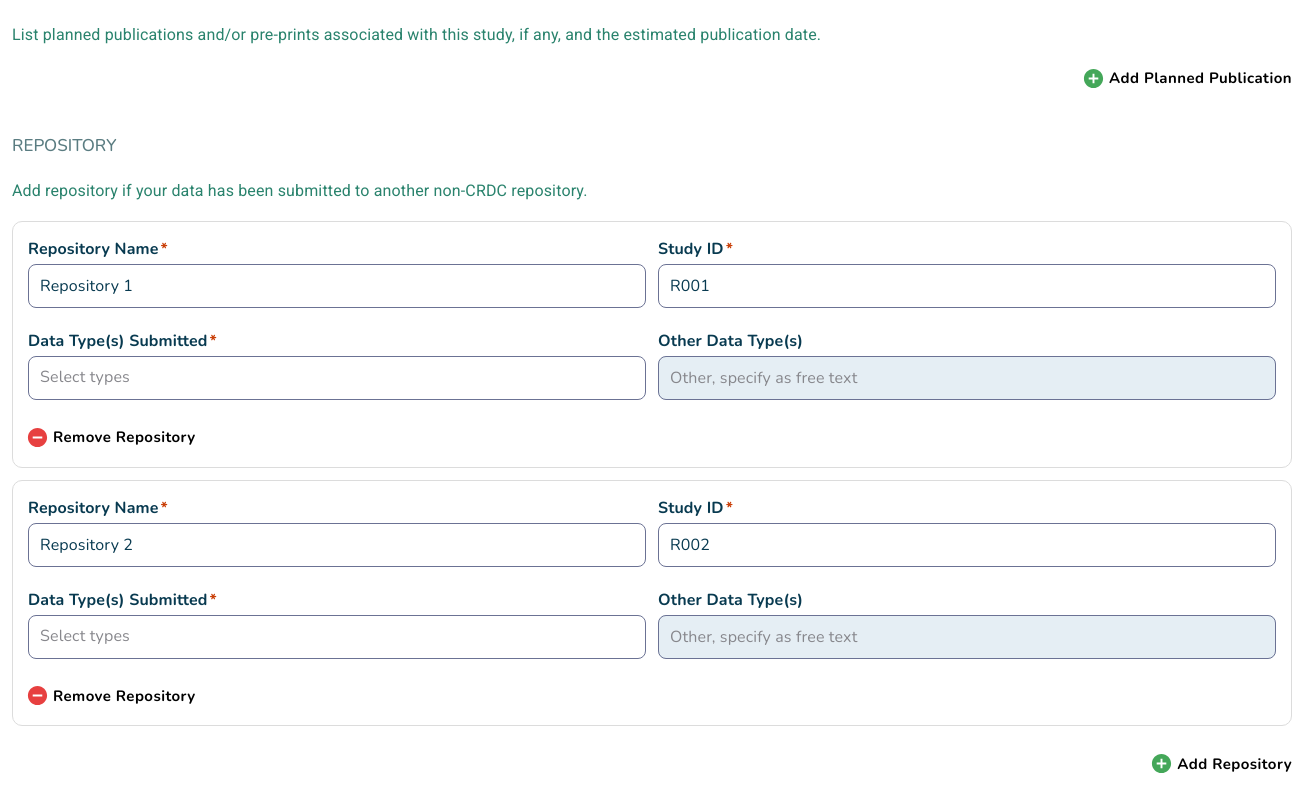
Test case: Basic Functionality › should remove a repository when remove button is clicked
(page scrolled)
Check: the element with test id "section-b-repository-0" is shown, box top-left (12, 221), bottom-right (1292, 468)
Check: the element with test id "section-b-repository-1" is shown, box top-left (12, 480), bottom-right (1292, 726)
Click the 2nd button "Remove Repository".
click(112, 696)  # box top-left (28, 684), bottom-right (196, 707)
(page scrolled)
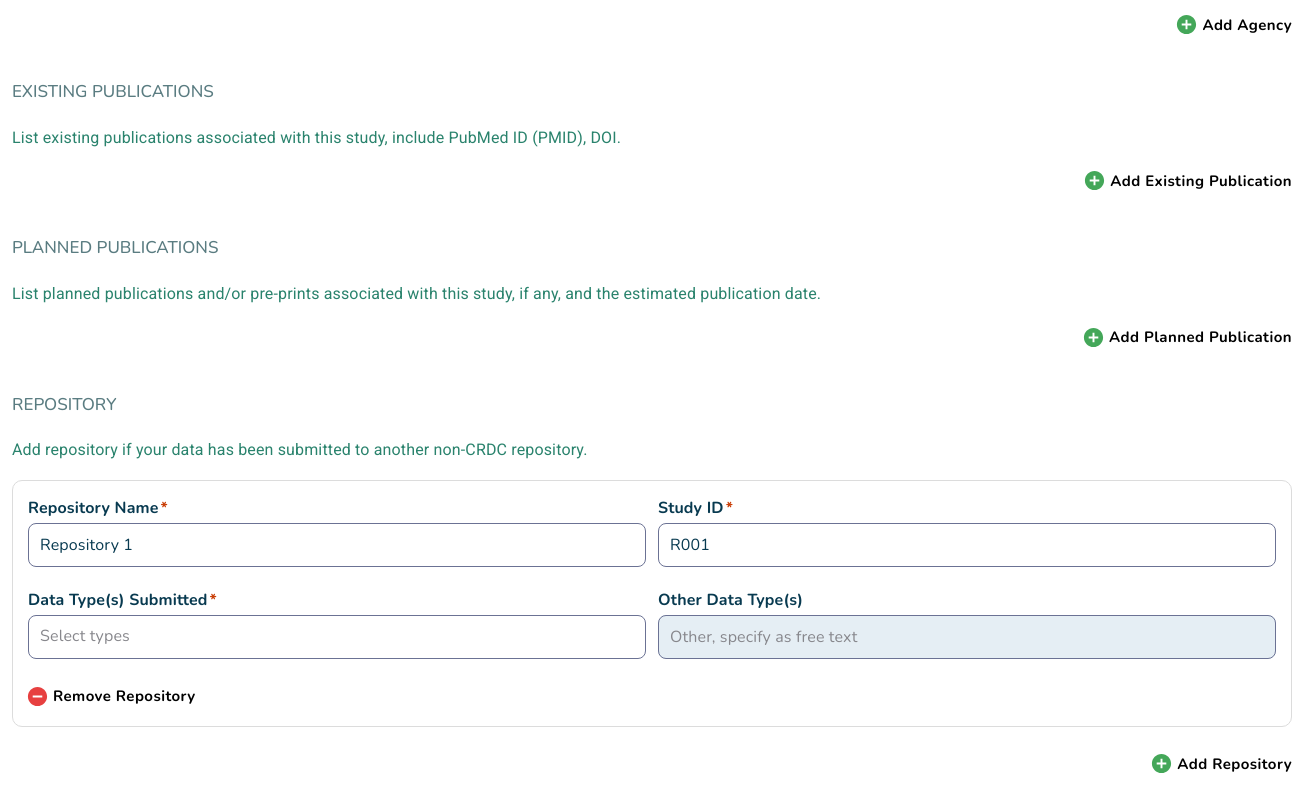
Check: the element with test id "section-b-repository-0" is shown, box top-left (12, 480), bottom-right (1292, 727)
Check: the element with test id "section-b-repository-1" is gone
